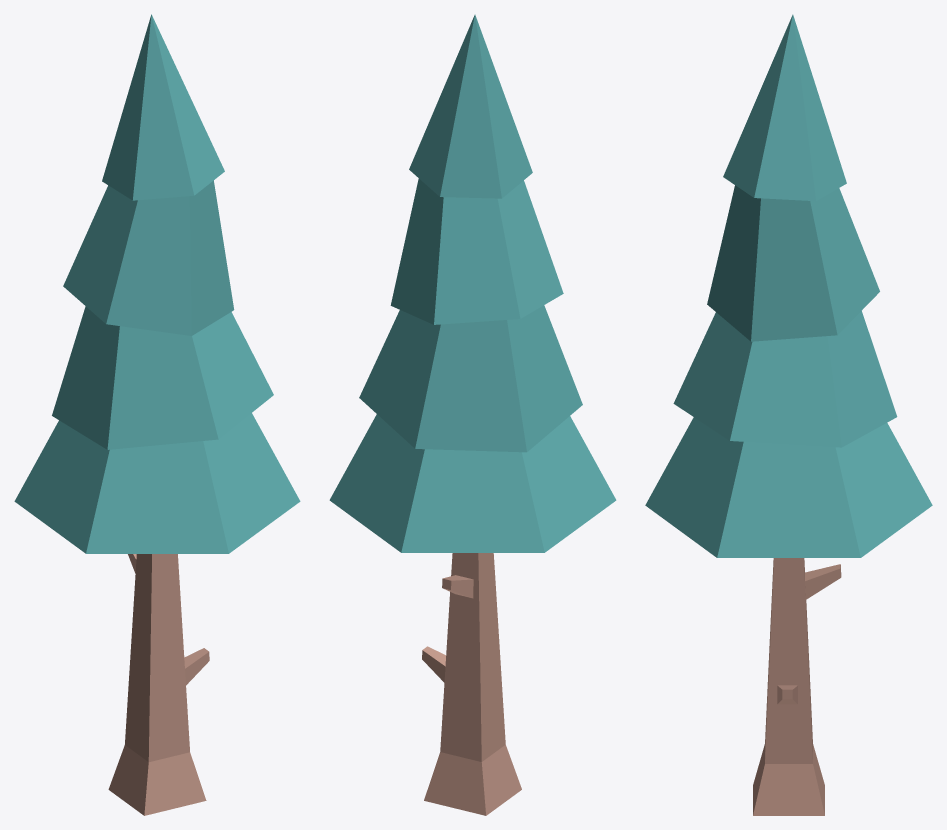
File: tree_pineTallC_detailed.glb
3 views of the same model, side by side, from view 1: azimuth 30°, elevation 25°; view 2: azimuth 150°, elevation 25°; view 3: azimuth 270°, elevation 25° (orthographic).
Parts seen in each view (by area): view 1: tree_pineTallC_detailed; view 2: tree_pineTallC_detailed; view 3: tree_pineTallC_detailed.
Boxes of the visible parts, <box> form: tree_pineTallC_detailed: <box>14,14,300,815</box>; tree_pineTallC_detailed: <box>329,14,616,815</box>; tree_pineTallC_detailed: <box>645,14,932,815</box>.
Size of the model in its own units: 0.4804 by 1.67 by 0.5547.
